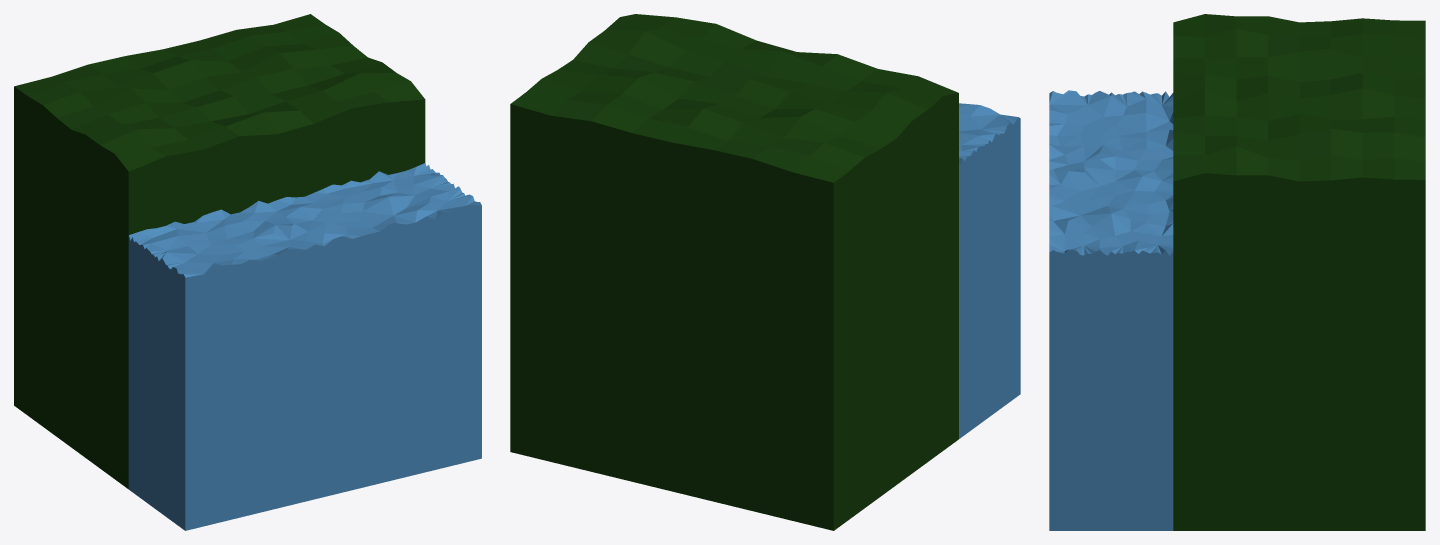
Rendered from TileStraight.fbx.
The picture shows the model from 3 angles, left to right: view 1: azimuth 30°, elevation 25°; view 2: azimuth 150°, elevation 25°; view 3: azimuth 270°, elevation 25°; orthographic projection. The views are drawn at different scales.
Visible parts, largest first — view 1: Cube.014; view 2: Cube.014; view 3: Cube.014.
Part boxes in pixels (box(x1,y1,x2,y2)): Cube.014: box(14, 14, 481, 530); Cube.014: box(510, 14, 1020, 530); Cube.014: box(1049, 14, 1425, 530).
Size of the model in its own units: 100 by 107 by 100.
